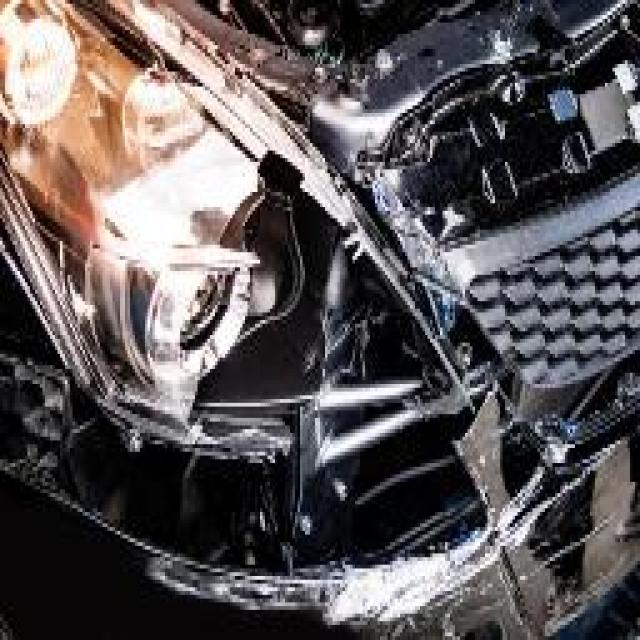Bonnet: (127, 0, 640, 221)
Bumper: (0, 304, 640, 640)
Light: (0, 0, 473, 448)
